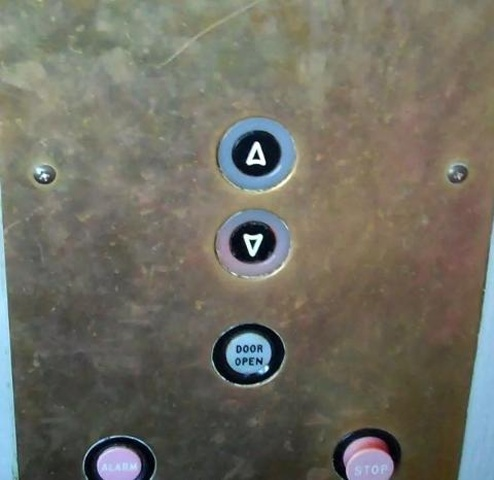down: (212, 206, 294, 283)
text_alarm: (79, 432, 160, 480)
text_door open: (210, 319, 289, 389)
text_stop: (330, 427, 405, 480)
up: (214, 113, 300, 196)
